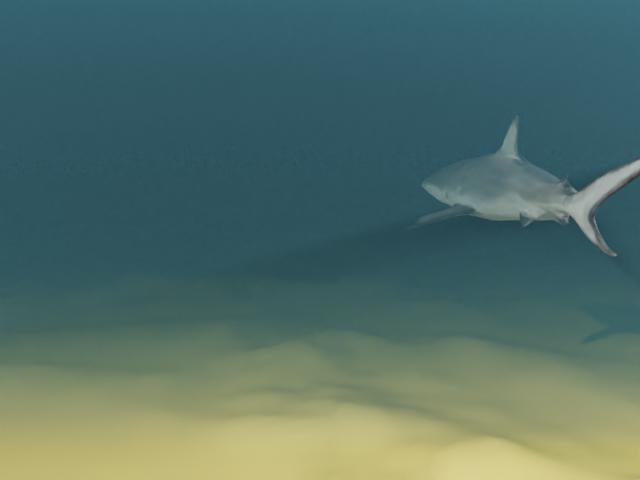Carribean Shark.001: (407, 115, 640, 257)
